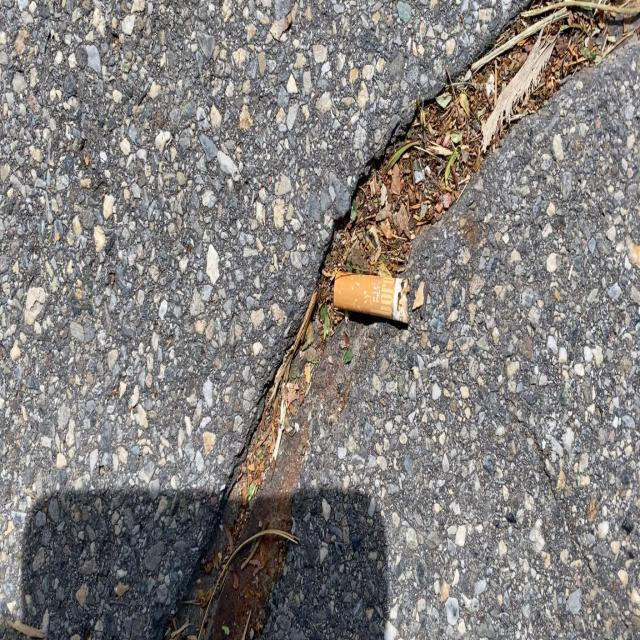other waste: (333, 266, 411, 326)
